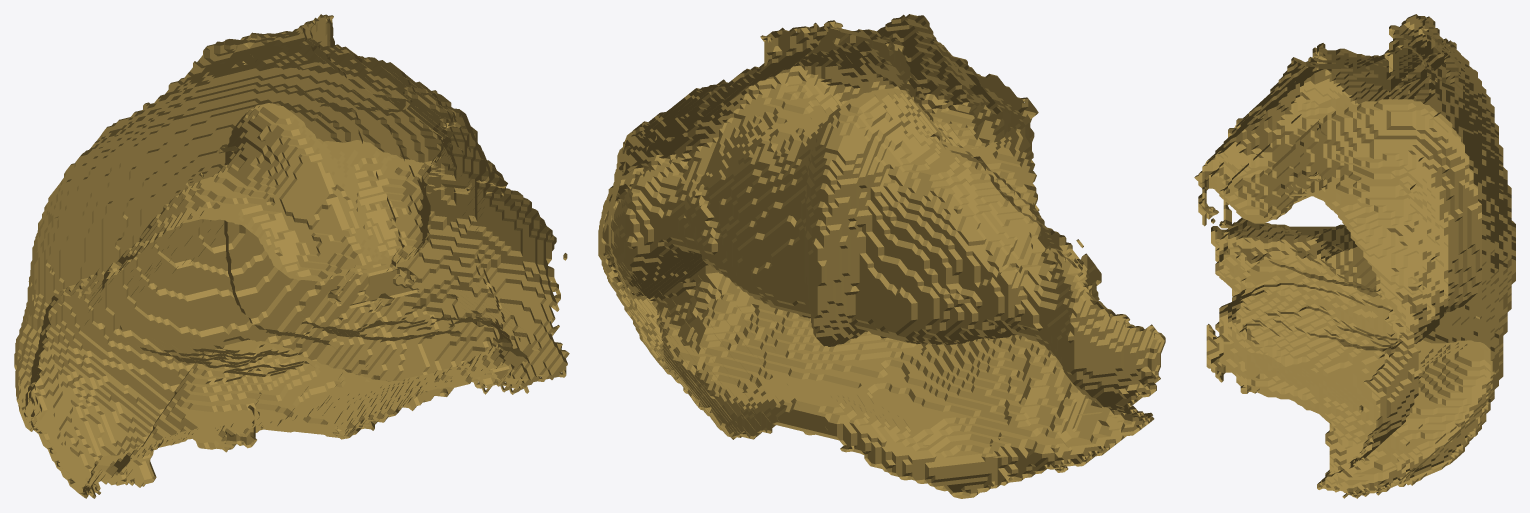
File: region_0016_CCe-m__cerebellar_corpus__molecular_layer_.glb
The picture shows the model from 3 angles, left to right: view 1: azimuth 30°, elevation 25°; view 2: azimuth 150°, elevation 25°; view 3: azimuth 270°, elevation 25°; orthographic projection. The views are drawn at different scales.
Parts seen in each view (by area): view 1: world; view 2: world; view 3: world.
Part boxes in pixels (box(x1,y1,x2,y2)): world: box(14, 14, 569, 498); world: box(598, 14, 1165, 498); world: box(1194, 14, 1515, 498).
Size of the model in its own units: 1.11 by 0.832 by 0.608.
